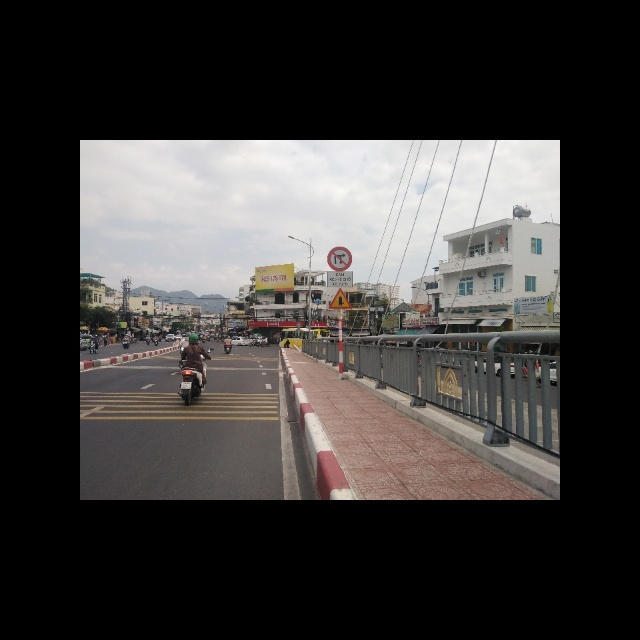Cấm quay đầu và rẽ phải: (327, 245, 352, 271)
Giao nhau với đường không ưu tiên: (328, 288, 351, 309)
